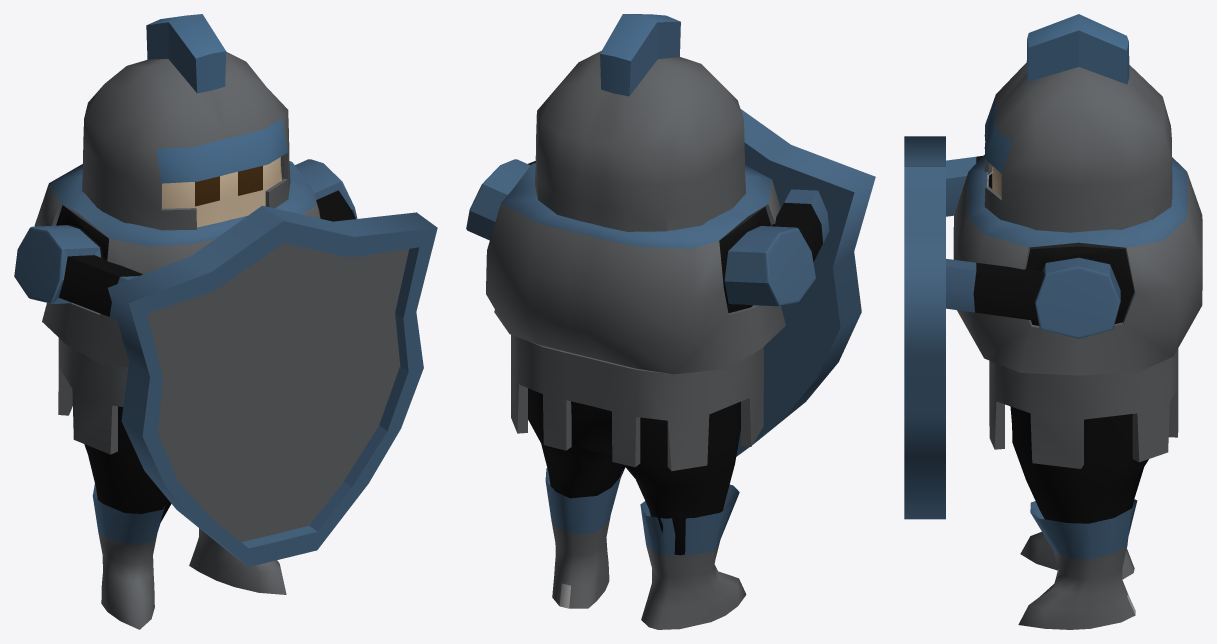
Rendered from heisi.fbx.
3 views of the same model, side by side, from view 1: azimuth 30°, elevation 25°; view 2: azimuth 150°, elevation 25°; view 3: azimuth 270°, elevation 25° (orthographic).
Visible parts, largest first — view 1: pCube2, polySurface8; view 2: polySurface8, pCube2; view 3: polySurface8, pCube2.
Part boxes in pixels (x1,y1,x2,y2): pCube2: (108,205,437,566); polySurface8: (14,14,357,629); polySurface8: (466,14,829,629); pCube2: (736,109,875,456); polySurface8: (946,14,1202,629); pCube2: (904,136,945,519).
Bounding box in the file's own units: 34.31 × 58.58 × 27.75.
